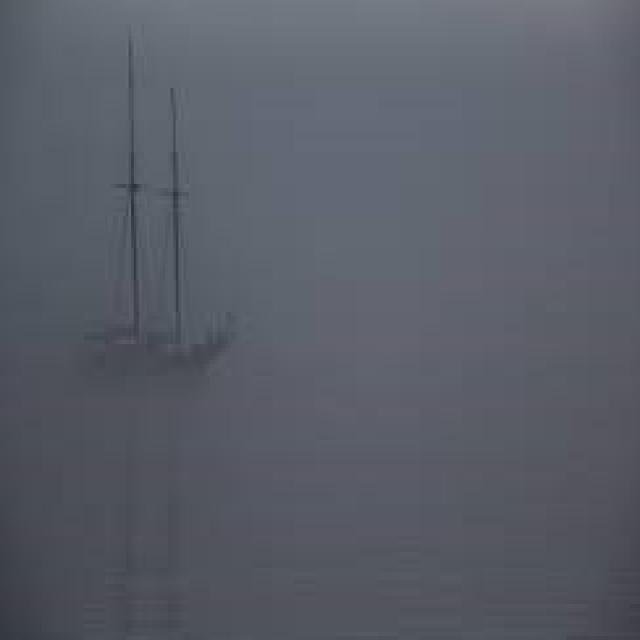fishing boat: (88, 56, 240, 409)
